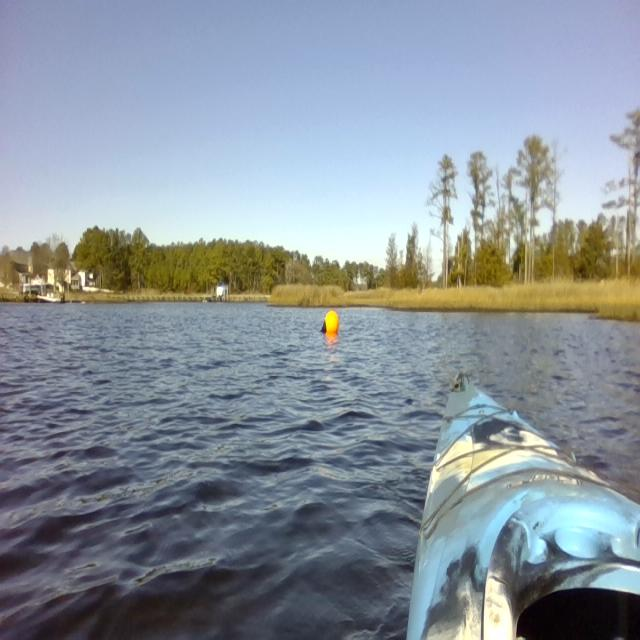Buoy: (320, 307, 348, 347)
